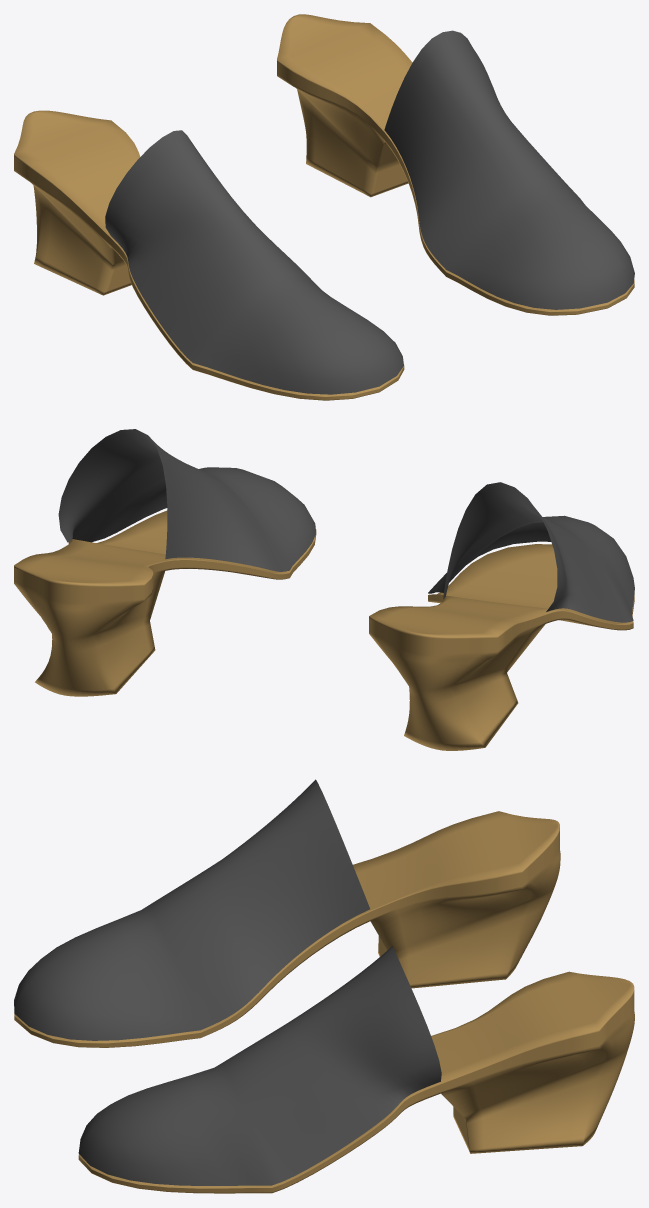
The model's file is shoes 4.fbx.
3 views of the same model, one above another, from view 1: azimuth 30°, elevation 25°; view 2: azimuth 150°, elevation 25°; view 3: azimuth 270°, elevation 25° (orthographic). The views are drawn at different scales.
Parts seen in each view (by area): view 1: Shape09.001, Shape09; view 2: Shape09, Shape09.001; view 3: Shape09, Shape09.001.
Part boxes in pixels (x1,y1,x2,y2): Shape09.001: (14,110,404,400); Shape09: (277,14,634,315); Shape09: (14,429,316,696); Shape09.001: (369,482,634,750); Shape09: (78,946,634,1193); Shape09.001: (14,779,560,1047).
Bounding box in the file's own units: 828 × 297 × 840.
